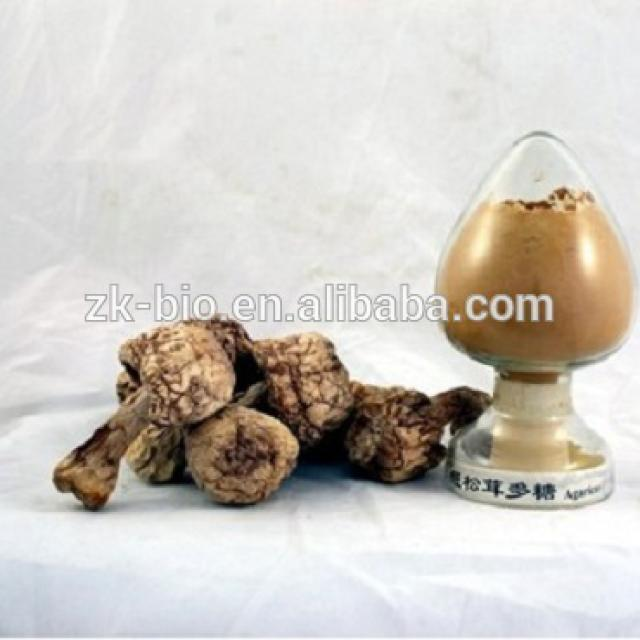Agaricus blazei Murill: (58, 322, 487, 512)
